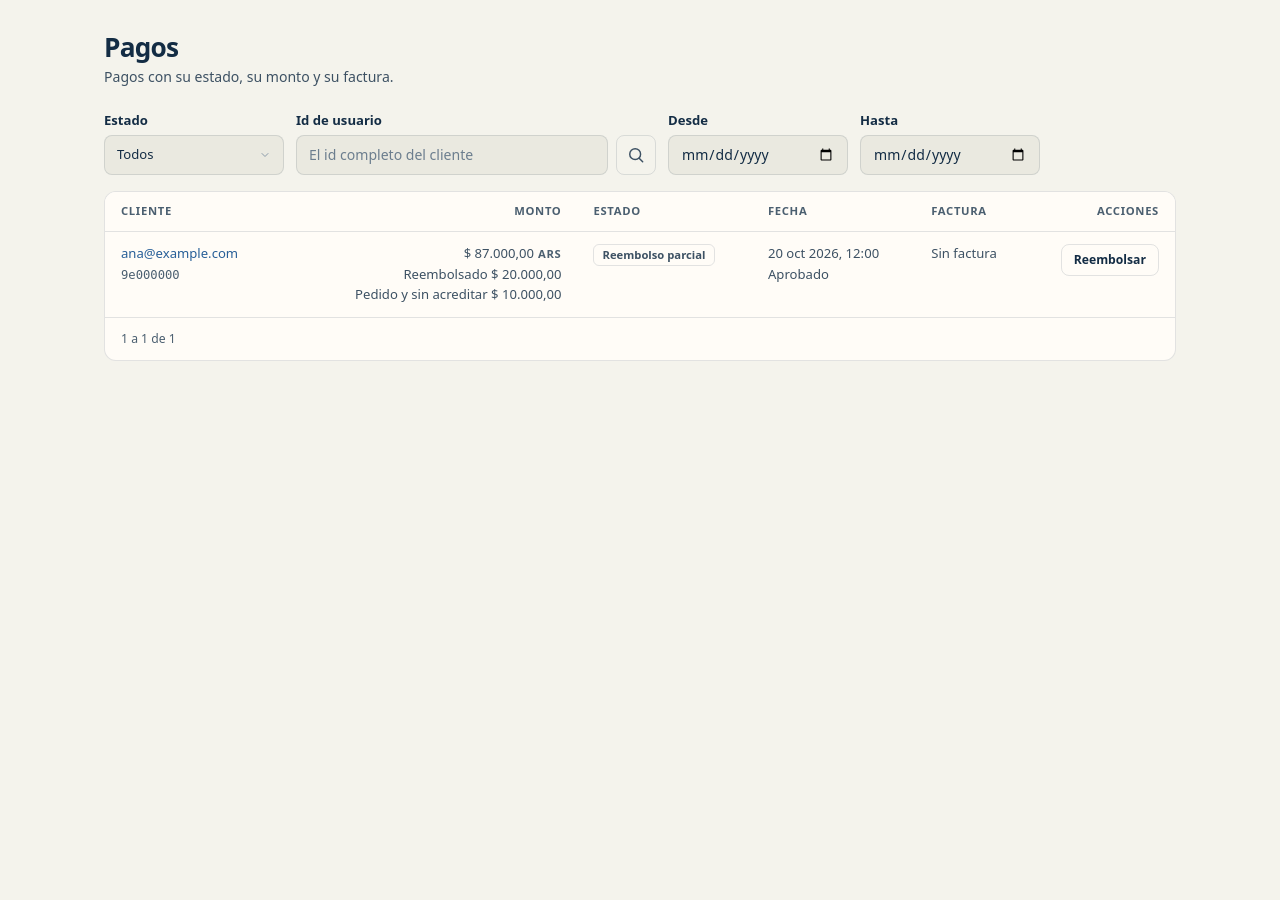
Test: payments screen › tells what happened to the subscription after a refund that closes it (PENDING)
Click the button with aria-label "Reembolsar el pago 9e000000".
click(1110, 260)  # box left=1061, top=244, right=1159, bottom=276
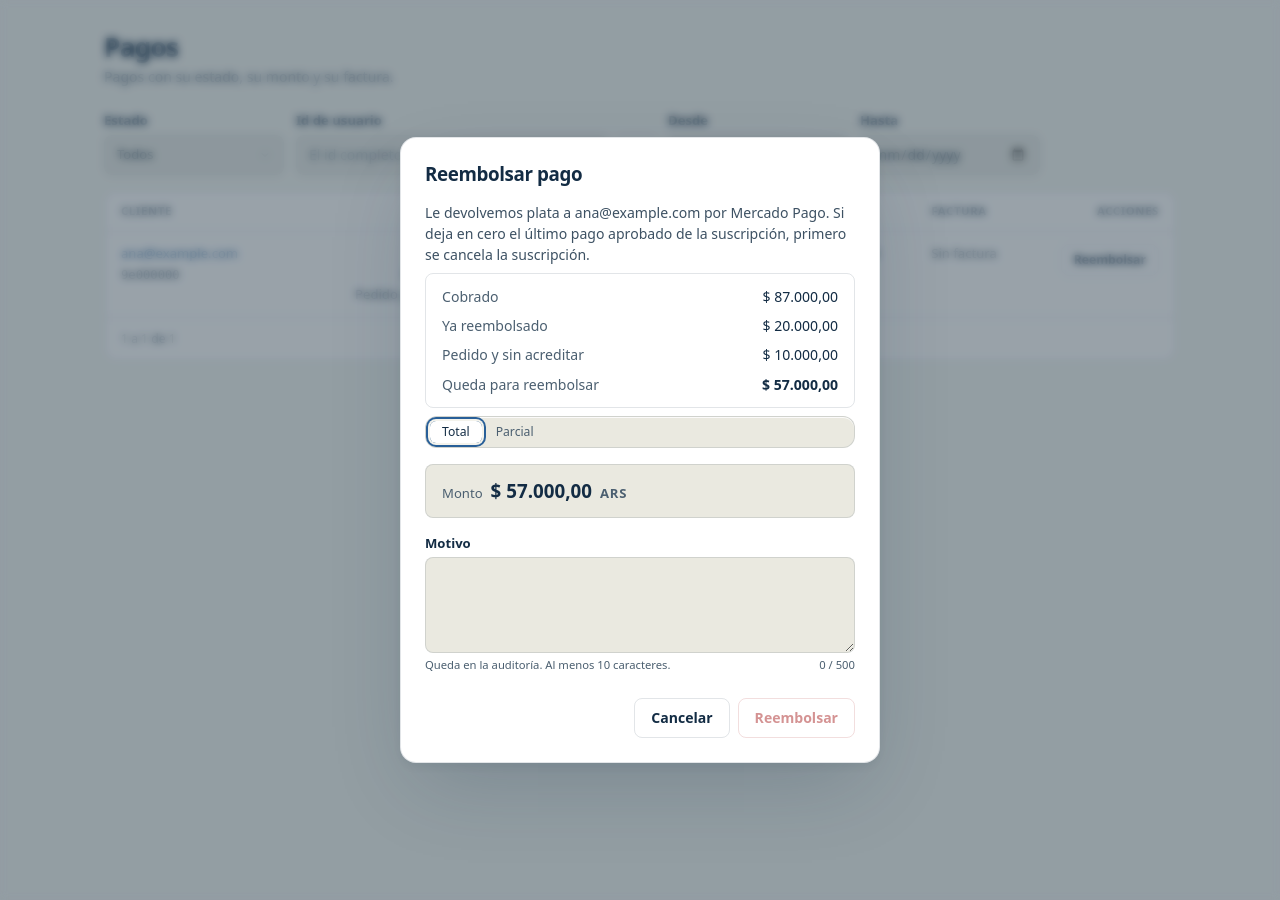
Type "El cliente pidió la baja" into the text box labelled "Motivo".
click(640, 606); type("El cliente pidió la baja")  # box left=425, top=558, right=855, bottom=654
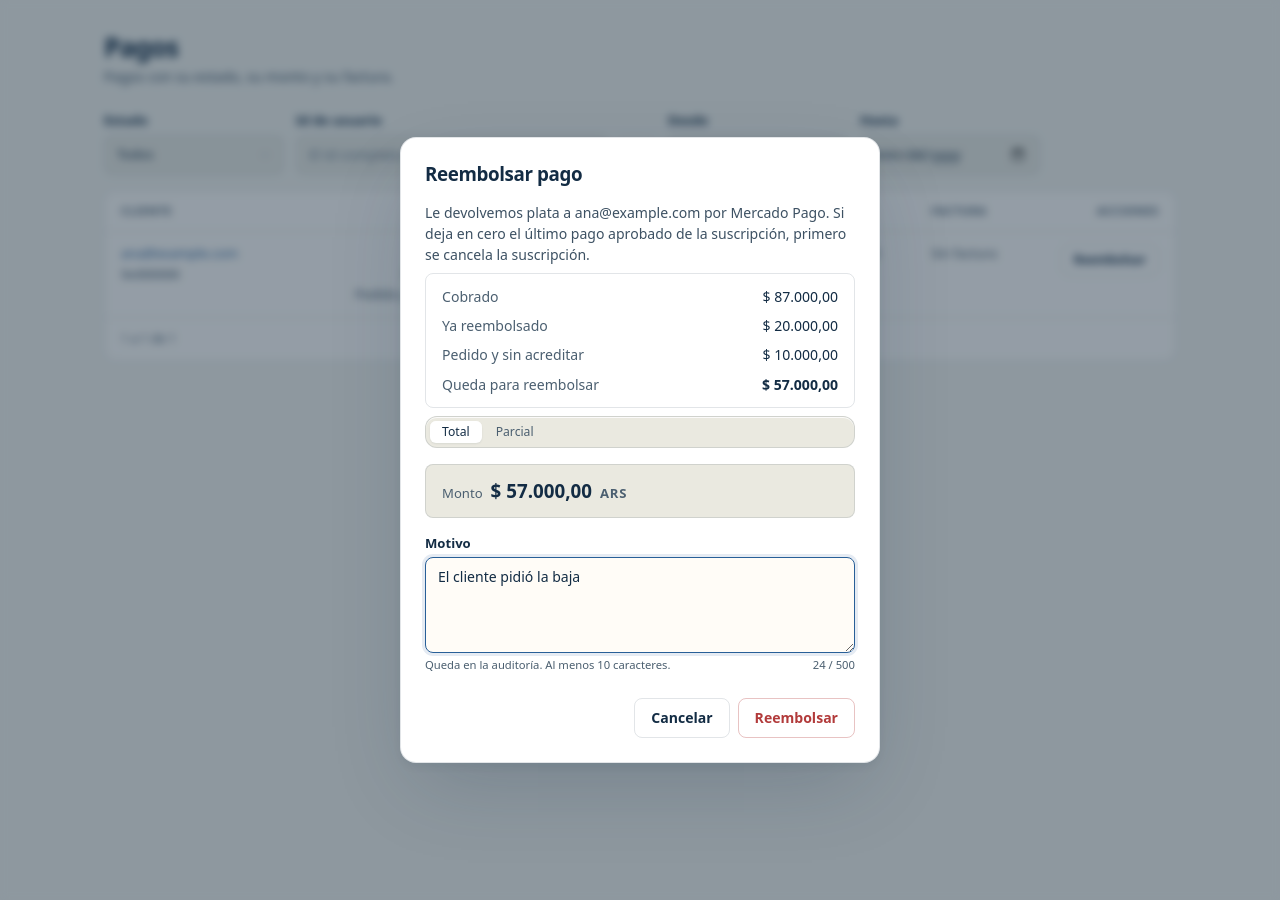
Click the button "Reembolsar".
click(796, 718)  # box left=738, top=698, right=855, bottom=738
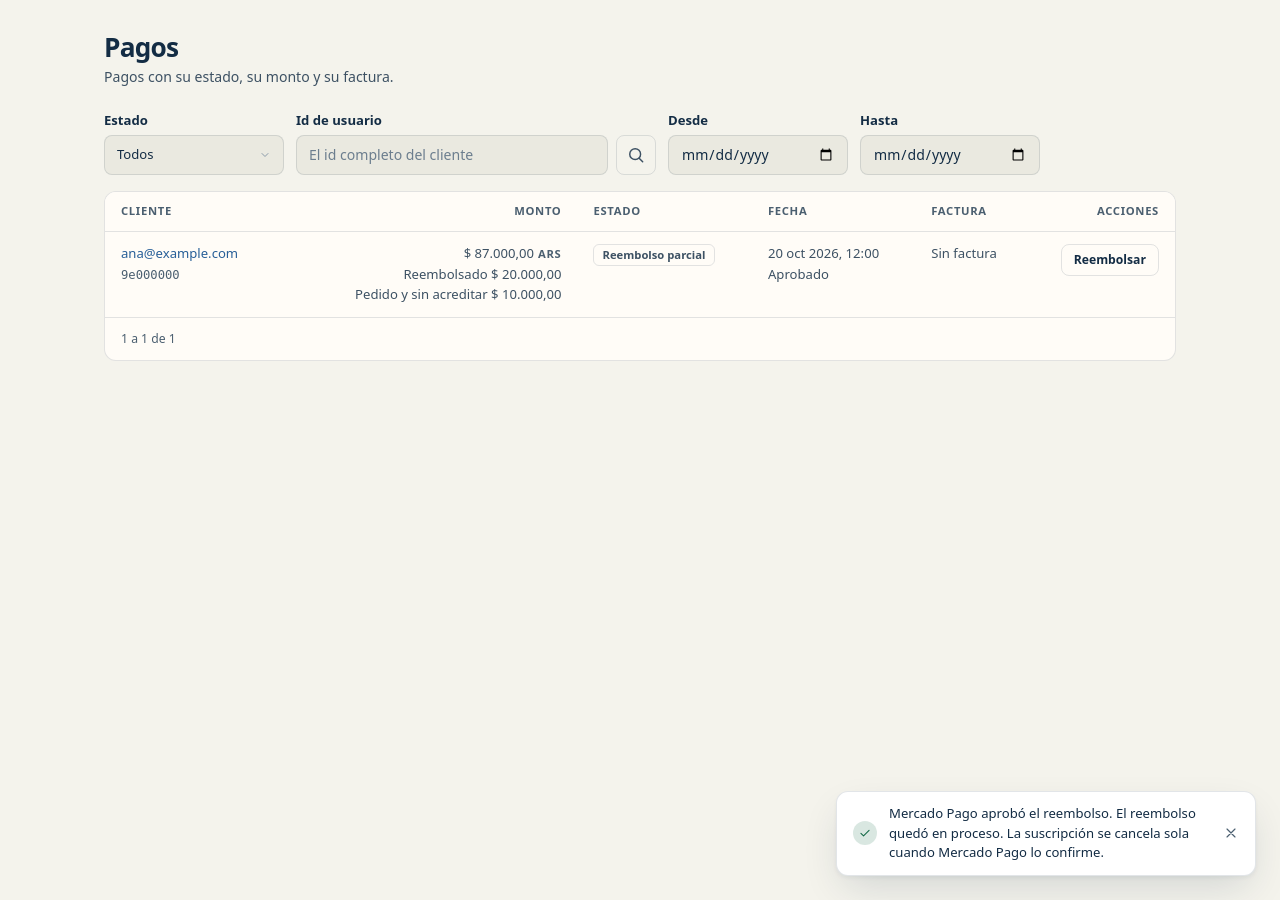
Check: the text "Mercado Pago aprobó el reembolso. El reembolso quedó en proceso. La suscripción se cancela sola cuando Mercado Pago lo c" is shown, box left=889, top=804, right=1196, bottom=861
